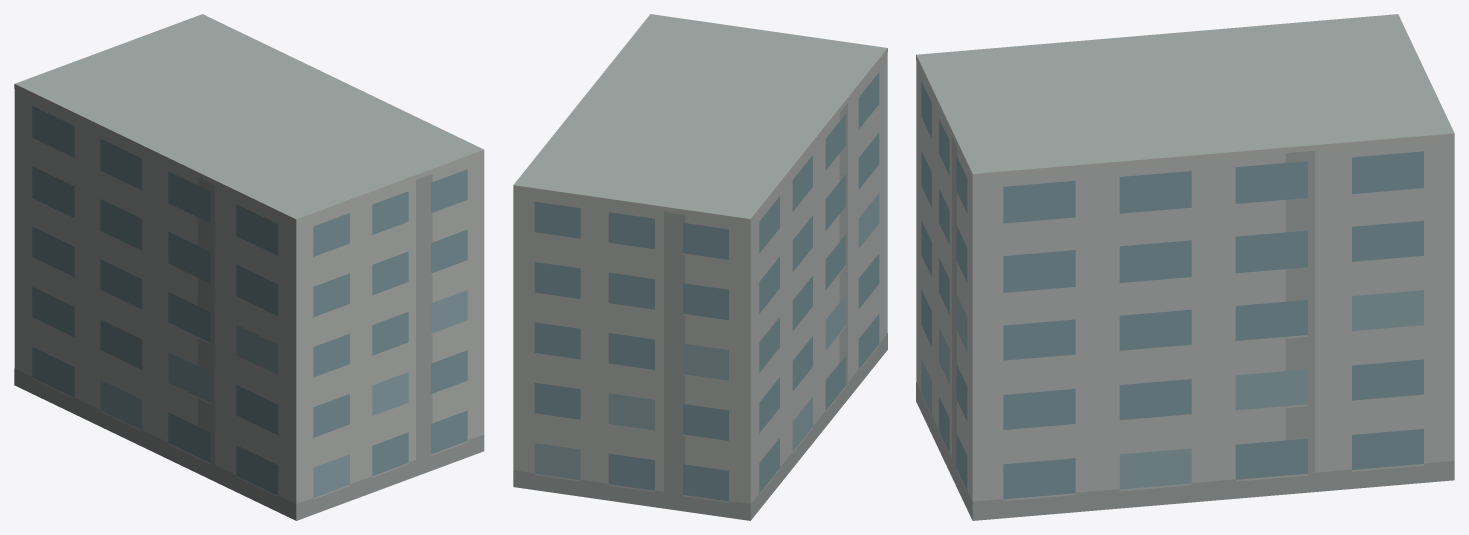
Rendered from residential-c056ec64-27bd-41b2-a98e-20998954c46d.glb.
The picture shows the model from 3 angles, left to right: view 1: azimuth 30°, elevation 25°; view 2: azimuth 150°, elevation 25°; view 3: azimuth 270°, elevation 25°; orthographic projection. The views are drawn at different scales.
Visible parts, largest first — view 1: residential-c056ec64-27bd-41b2-a98e-20998954c46d.tmp; view 2: residential-c056ec64-27bd-41b2-a98e-20998954c46d.tmp; view 3: residential-c056ec64-27bd-41b2-a98e-20998954c46d.tmp.
Part boxes in pixels (x1,y1,x2,y2): residential-c056ec64-27bd-41b2-a98e-20998954c46d.tmp: [14, 14, 484, 520]; residential-c056ec64-27bd-41b2-a98e-20998954c46d.tmp: [513, 14, 887, 520]; residential-c056ec64-27bd-41b2-a98e-20998954c46d.tmp: [916, 14, 1454, 520].
Size of the model in its own units: 15.09 by 15.25 by 21.46.
